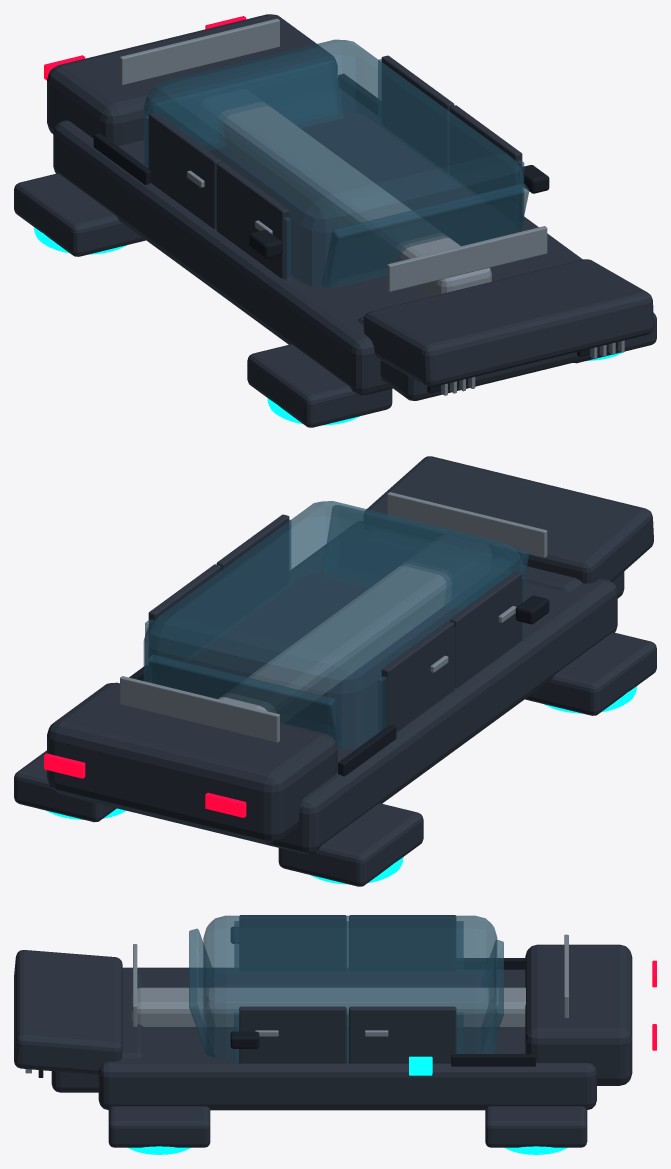
Rendered from vehicle_techtown_hover_sedan_a_v01.glb.
3 views of the same model, one above another, from view 1: azimuth 30°, elevation 25°; view 2: azimuth 150°, elevation 25°; view 3: azimuth 270°, elevation 25° (orthographic). The views are drawn at different scales.
Parts seen in each view (by area): view 1: component__passenger_cabin__passenger_cabin, component__lower_chassis__lower_chassis, component__aerodynamic_nose__aerodynamic_nose, component__central_spine__central_spine, component__rear_power_module__rear_power_module, component__windshield__windshield, component__side_windows__rear_glass, component__front_hover_pods__hover_pod_mount.001, component__rear_hover_pods__hover_pod_mount.001, component__four_doors__door_panel, component__four_doors__door_panel.002, component__service_panels__rear_service_panel (+9 smaller); view 2: component__passenger_cabin__passenger_cabin, component__lower_chassis__lower_chassis, component__rear_power_module__rear_power_module, component__aerodynamic_nose__aerodynamic_nose, component__central_spine__central_spine, component__windshield__windshield, component__rear_hover_pods__hover_pod_mount.001, component__front_hover_pods__hover_pod_mount.001, component__side_windows__rear_glass, component__four_doors__door_panel.002, component__four_doors__door_panel.003, component__four_doors__door_panel.001 (+10 smaller); view 3: component__lower_chassis__lower_chassis, component__passenger_cabin__passenger_cabin, component__rear_power_module__rear_power_module, component__aerodynamic_nose__aerodynamic_nose, component__central_spine__central_spine, component__four_doors__door_panel.001, component__four_doors__door_panel.002, component__four_doors__door_panel, component__four_doors__door_panel.003, component__front_hover_pods__hover_pod_mount, component__rear_hover_pods__hover_pod_mount, component__windshield__windshield (+12 smaller).
Boxes of the visible parts, left/top/right/bottom form: component__passenger_cabin__passenger_cabin: left=143, top=39, right=523, bottom=288; component__lower_chassis__lower_chassis: left=53, top=88, right=582, bottom=395; component__aerodynamic_nose__aerodynamic_nose: left=363, top=259, right=653, bottom=386; component__central_spine__central_spine: left=216, top=102, right=491, bottom=296; component__rear_power_module__rear_power_module: left=47, top=14, right=337, bottom=145; component__windshield__windshield: left=322, top=183, right=529, bottom=288; component__side_windows__rear_glass: left=148, top=60, right=343, bottom=150; component__front_hover_pods__hover_pod_mount.001: left=247, top=344, right=392, bottom=427; component__rear_hover_pods__hover_pod_mount.001: left=14, top=173, right=145, bottom=256; component__four_doors__door_panel: left=381, top=55, right=454, bottom=171; component__four_doors__door_panel.002: left=148, top=112, right=221, bottom=228; component__service_panels__rear_service_panel: left=120, top=18, right=279, bottom=84; component__passenger_cabin__passenger_cabin: left=143, top=501, right=523, bottom=749; component__lower_chassis__lower_chassis: left=57, top=544, right=617, bottom=854; component__rear_power_module__rear_power_module: left=47, top=682, right=337, bottom=843; component__aerodynamic_nose__aerodynamic_nose: left=365, top=456, right=653, bottom=583; component__central_spine__central_spine: left=218, top=562, right=452, bottom=722; component__windshield__windshield: left=322, top=505, right=529, bottom=610; component__rear_hover_pods__hover_pod_mount.001: left=278, top=803, right=423, bottom=886; component__front_hover_pods__hover_pod_mount.001: left=525, top=632, right=656, bottom=715; component__side_windows__rear_glass: left=147, top=654, right=343, bottom=746; component__four_doors__door_panel.002: left=381, top=621, right=454, bottom=732; component__four_doors__door_panel.003: left=216, top=514, right=289, bottom=630; component__four_doors__door_panel.001: left=449, top=571, right=522, bottom=687; component__lower_chassis__lower_chassis: left=98, top=967, right=596, bottom=1110; component__passenger_cabin__passenger_cabin: left=203, top=915, right=497, bottom=1059; component__rear_power_module__rear_power_module: left=525, top=944, right=632, bottom=1085; component__aerodynamic_nose__aerodynamic_nose: left=14, top=950, right=122, bottom=1074; component__central_spine__central_spine: left=131, top=987, right=525, bottom=1026; component__four_doors__door_panel.001: left=239, top=915, right=346, bottom=971; component__four_doors__door_panel.002: left=349, top=915, right=455, bottom=971; component__four_doors__door_panel: left=349, top=1006, right=456, bottom=1063; component__four_doors__door_panel.003: left=239, top=1006, right=346, bottom=1063; component__front_hover_pods__hover_pod_mount: left=108, top=1106, right=210, bottom=1147; component__rear_hover_pods__hover_pod_mount: left=485, top=1106, right=587, bottom=1147; component__windshield__windshield: left=189, top=928, right=216, bottom=1053.
Bounding box in the file's own units: 2.54 × 1.15 × 4.92.
